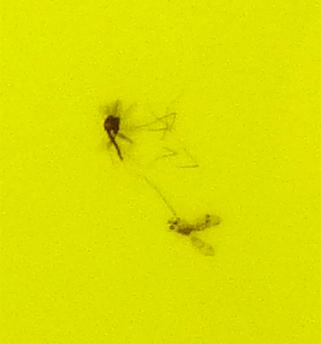Nematocera: (100, 100, 133, 162), (166, 212, 221, 244)
